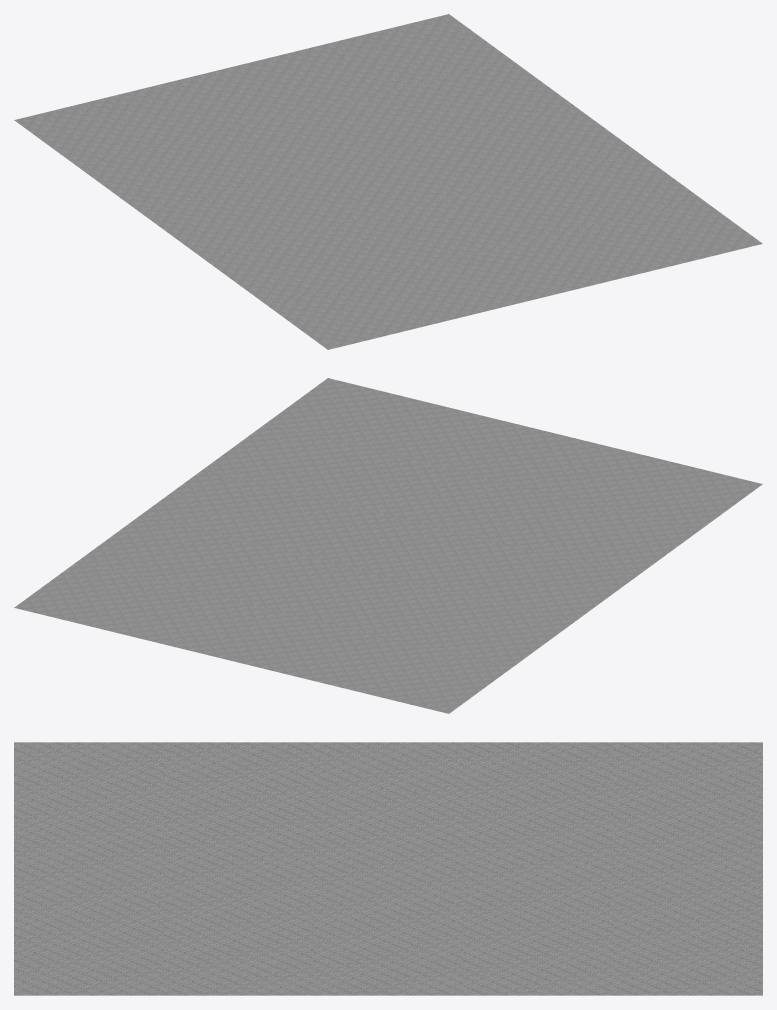
File: gravel.fbx
3 views of the same model, one above another, from view 1: azimuth 30°, elevation 25°; view 2: azimuth 150°, elevation 25°; view 3: azimuth 270°, elevation 25° (orthographic). The views are drawn at different scales.
Visible parts, largest first — view 1: GRAVEL1, GRAVEL3, GRAVEL, GRAVEL2, GRAVEL4; view 2: GRAVEL1, GRAVEL3, GRAVEL2, GRAVEL4, GRAVEL; view 3: GRAVEL, GRAVEL2, GRAVEL4, GRAVEL1, GRAVEL3.
Part boxes in pixels (box(x1,y1,x2,y2)): GRAVEL1: box(265, 198, 762, 349); GRAVEL3: box(14, 14, 511, 165); GRAVEL: box(140, 106, 636, 257); GRAVEL2: box(203, 152, 699, 303); GRAVEL4: box(77, 60, 573, 211); GRAVEL1: box(265, 378, 762, 529); GRAVEL3: box(14, 562, 511, 713); GRAVEL2: box(203, 424, 699, 575); GRAVEL4: box(77, 516, 573, 667); GRAVEL: box(140, 470, 636, 621); GRAVEL: box(313, 742, 463, 995); GRAVEL2: box(163, 742, 313, 995); GRAVEL4: box(463, 742, 613, 995); GRAVEL1: box(14, 742, 163, 995); GRAVEL3: box(613, 742, 762, 995).
Size of the model in its own units: 38766 by 0 by 48463.
1 material, 1 textured.
